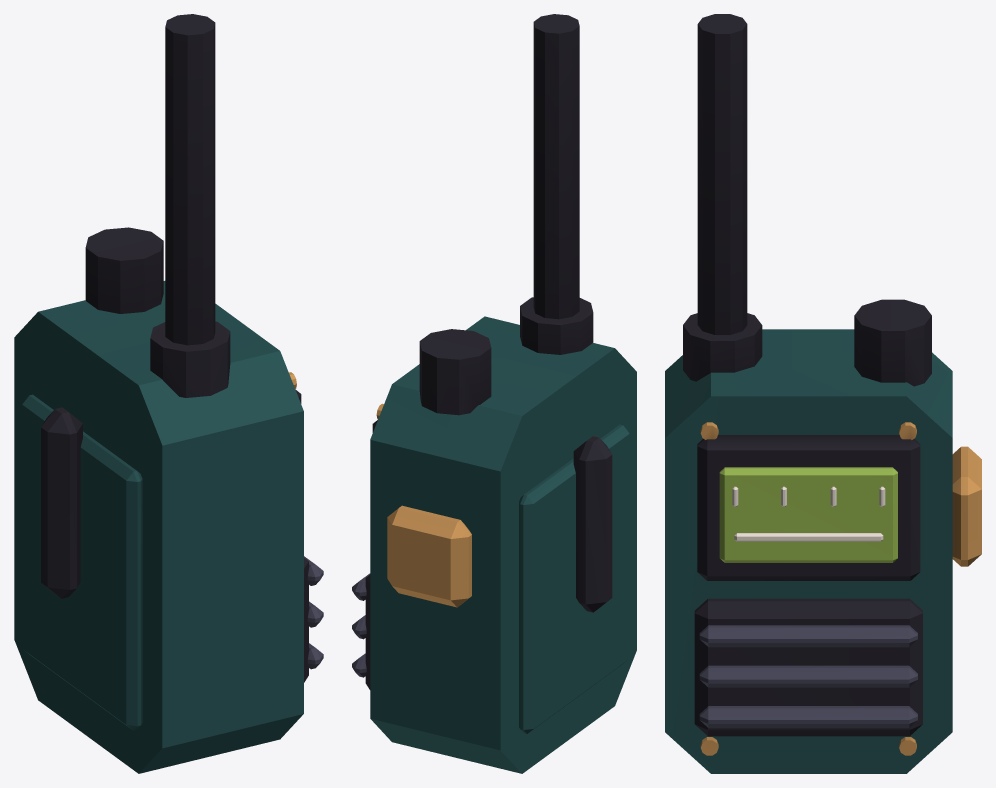
The model's file is util.radio.glb.
The picture shows the model from 3 angles, left to right: view 1: azimuth 30°, elevation 25°; view 2: azimuth 150°, elevation 25°; view 3: azimuth 270°, elevation 25°; orthographic projection. The views are drawn at different scales.
Parts seen in each view (by area): view 1: body; view 2: body; view 3: body.
Boxes of the visible parts, x1=… form: body: x1=14, y1=14, x2=323, y2=773; body: x1=352, y1=14, x2=636, y2=773; body: x1=665, y1=14, x2=981, y2=773.
Bounding box in the file's own units: 0.2575 × 0.79 × 0.3195.
